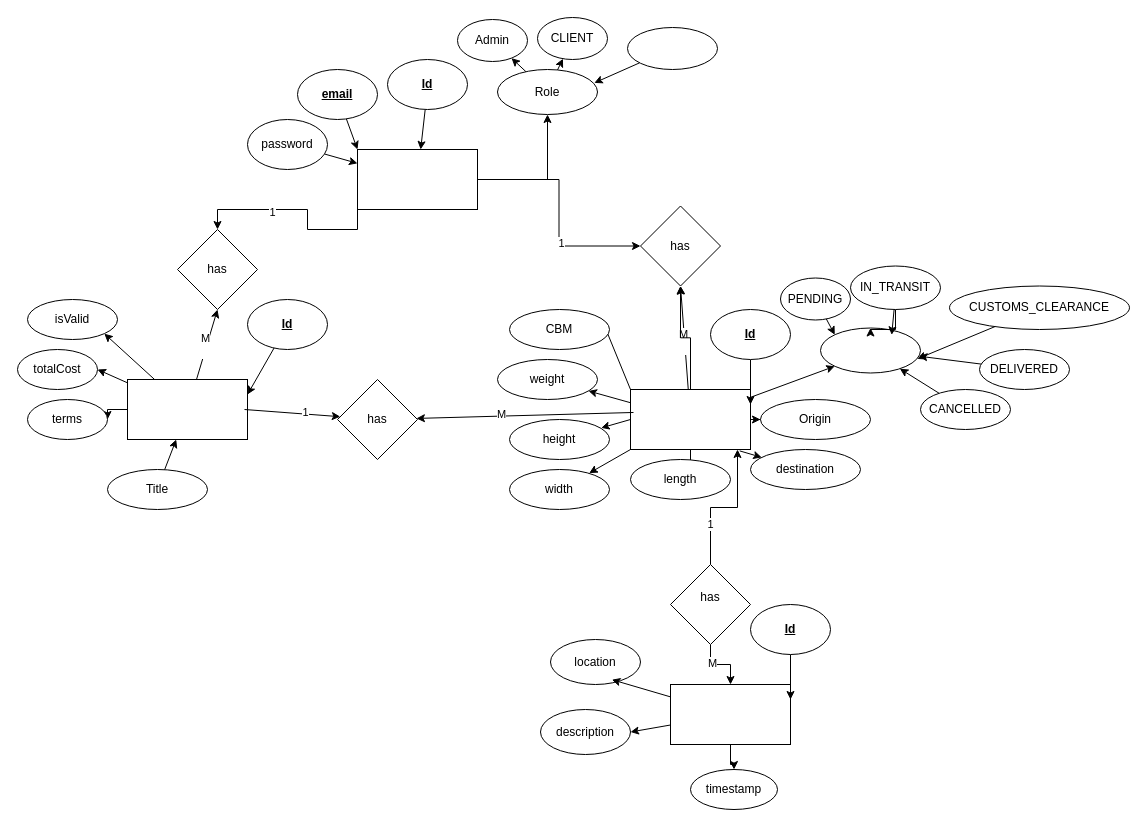
This 1147x827 diagram has some shape labels left out. The box of each missing label's shape, as (x1, y1, x2, y2) in pixels:
Contract: (126, 378, 248, 440)
FORWARDER: (626, 26, 718, 70)
Shipment: (630, 388, 750, 450)
ShipmentStatus: (820, 327, 920, 373)
TrackingLog: (670, 684, 790, 744)
User: (356, 148, 478, 210)
